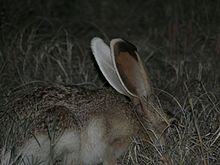rabbit: (1, 36, 155, 165)
